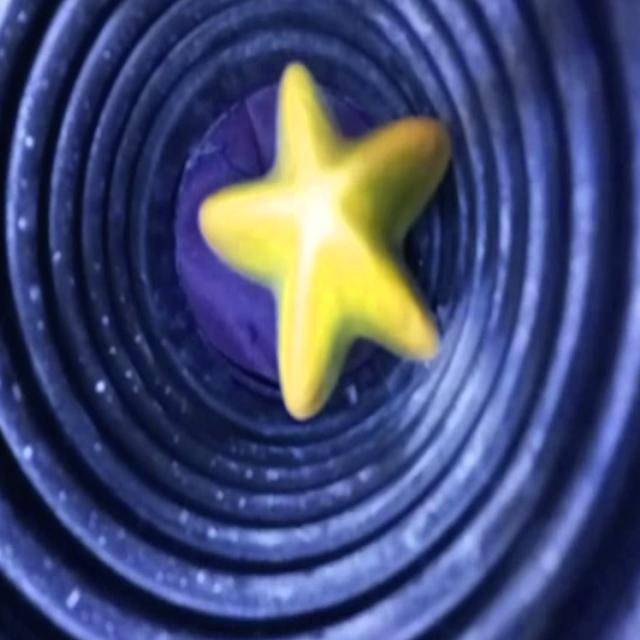obstacles: (192, 65, 448, 415)
